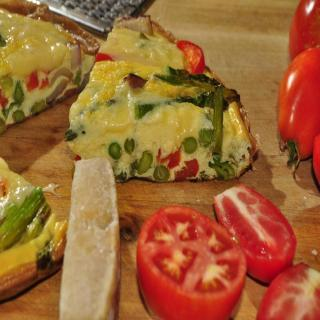tomato: (135, 202, 247, 320), (213, 179, 298, 285), (278, 46, 320, 176), (256, 258, 320, 320), (290, 0, 320, 60), (176, 40, 206, 77), (310, 134, 320, 186)
